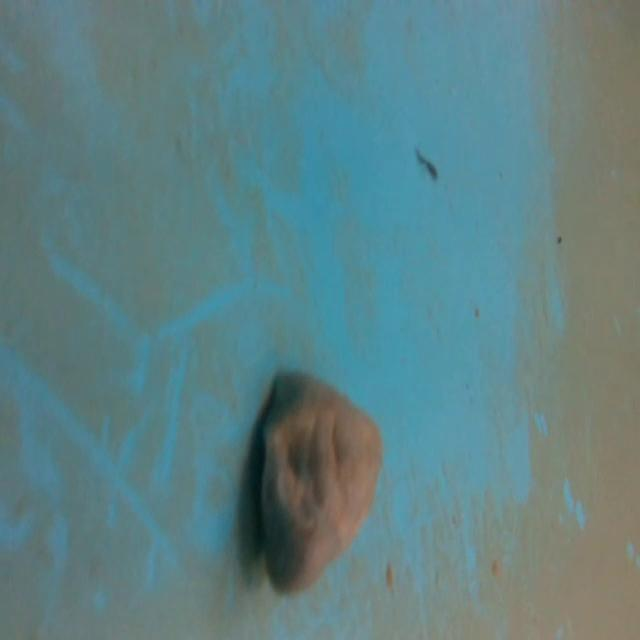rock: (252, 361, 386, 603)
